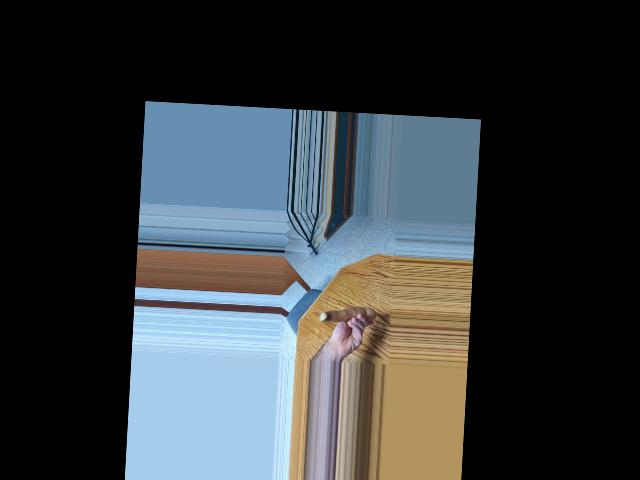sweet_potato: (320, 302, 377, 330)
